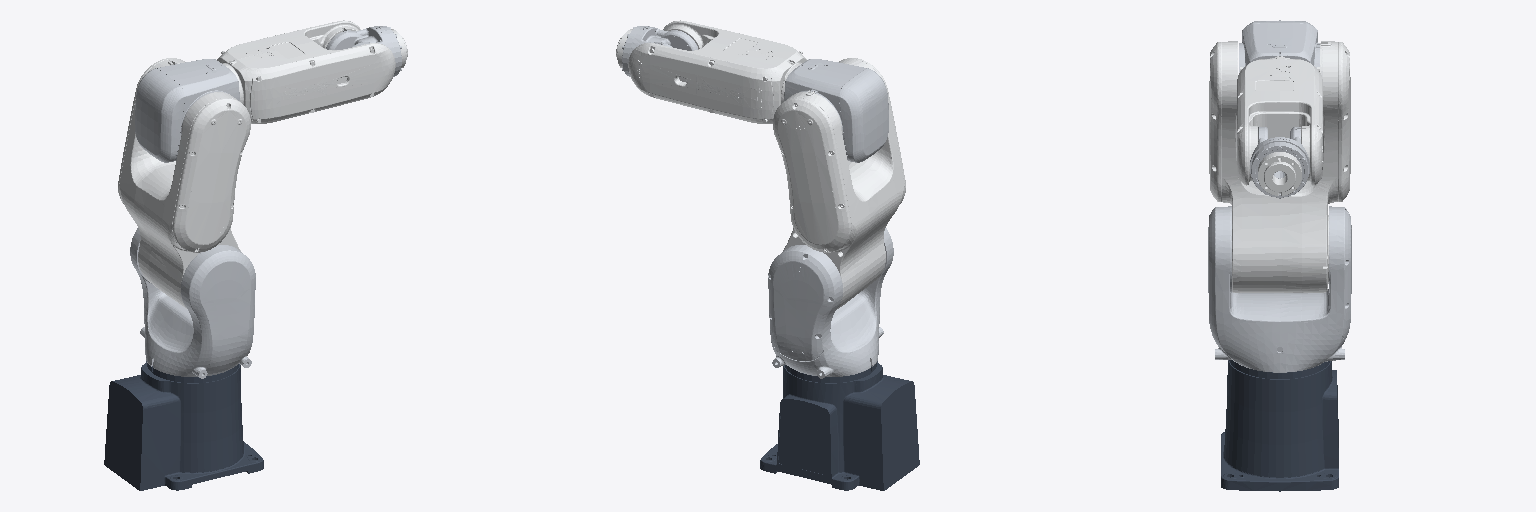
robot.urdf — IR-R4H-54S5-C1H-INT_01741031:
<?xml version="1.0"?>
<!-- Firmware source: params_package/Standard/Body/IR-R4H-54S5-C1H-INT_01741031/IR-R4H-54S5-C1H-INT_01741031.json; SHA256 b7608c351678f58ab75e27582ad9813d67b9332088d0996ac28763871a7e3e41. -->
<!-- Z-up; STL mm scaled to m. Effective firmware mass properties are SI and transformed into CAD link frames. -->
<!-- Revolute effort is nominal output torque; prismatic effort is ideal screw force. See physics-audit.json for approximations. -->
<robot name="IR-R4H-54S5-C1H-INT_01741031">
  <link name="base_link">

    <visual name="base">
      <origin xyz="0 0 0" rpy="0 0 0"/>
      <geometry>
        <mesh filename="../models/IR-R4H-54/P0.stl" scale="0.001 0.001 0.001"/>
      </geometry>
      <material name="base_material">
        <color rgba="0.31 0.35 0.41 1"/>
      </material>
    </visual>
    <collision name="base_collision">
      <origin xyz="0 0 0" rpy="0 0 0"/>
      <geometry>
        <mesh filename="../models/IR-R4H-54/P0.stl" scale="0.001 0.001 0.001"/>
      </geometry>
    </collision>
  </link>

  <link name="link_1">

    <!-- inertial source: bounding-box-fallback -->
    <!-- Effective firmware principal moments are not physically realizable; no unit guessing applied -->
    <inertial>
      <origin xyz="0.000013824463 0.000000072479 0.281902404785" rpy="0 0 0"/>
      <mass value="4.6511829668"/>
      <inertia ixx="0.033432511961" ixy="0" ixz="0" iyy="0.026197283566" iyz="0" izz="0.023527533623"/>
    </inertial>

    <visual name="link_1">
      <origin xyz="0 0 0" rpy="0 0 0"/>
      <geometry>
        <mesh filename="../models/IR-R4H-54/P1.stl" scale="0.001 0.001 0.001"/>
      </geometry>
      <material name="link_1_material">
        <color rgba="0.84 0.86 0.89 1"/>
      </material>
    </visual>
    <collision name="link_1_collision">
      <origin xyz="0 0 0" rpy="0 0 0"/>
      <geometry>
        <mesh filename="../models/IR-R4H-54/P1.stl" scale="0.001 0.001 0.001"/>
      </geometry>
    </collision>
  </link>

  <link name="link_2">

    <!-- inertial source: bounding-box-fallback -->
    <!-- Effective firmware principal moments are not physically realizable; no unit guessing applied -->
    <inertial>
      <origin xyz="-0.012871671677 -0.00000005722 0.127768753052" rpy="0 0 0"/>
      <mass value="5.8442506454"/>
      <inertia ixx="0.088290574955" ixy="0" ixz="0" iyy="0.079984067329" iyz="0" izz="0.029572097553"/>
    </inertial>

    <visual name="link_2">
      <origin xyz="0 0 -0.33" rpy="0 0 0"/>
      <geometry>
        <mesh filename="../models/IR-R4H-54/P2.stl" scale="0.001 0.001 0.001"/>
      </geometry>
      <material name="link_2_material">
        <color rgba="0.94 0.95 0.96 1"/>
      </material>
    </visual>
    <collision name="link_2_collision">
      <origin xyz="0 0 -0.33" rpy="0 0 0"/>
      <geometry>
        <mesh filename="../models/IR-R4H-54/P2.stl" scale="0.001 0.001 0.001"/>
      </geometry>
    </collision>
  </link>

  <link name="link_3">

    <!-- inertial source: firmware-effective-si -->
    <inertial>
      <origin xyz="-0.0029101889 -0.0019966877 -0.0011573396" rpy="0 0 0"/>
      <mass value="2.8319447962"/>
      <inertia ixx="0.0074433738" ixy="0" ixz="0" iyy="0.0068158704" iyz="0" izz="0.0088166332"/>
    </inertial>

    <visual name="link_3">
      <origin xyz="0 0 -0.59" rpy="0 0 0"/>
      <geometry>
        <mesh filename="../models/IR-R4H-54/P3.stl" scale="0.001 0.001 0.001"/>
      </geometry>
      <material name="link_3_material">
        <color rgba="0.84 0.86 0.89 1"/>
      </material>
    </visual>
    <collision name="link_3_collision">
      <origin xyz="0 0 -0.59" rpy="0 0 0"/>
      <geometry>
        <mesh filename="../models/IR-R4H-54/P3.stl" scale="0.001 0.001 0.001"/>
      </geometry>
    </collision>
  </link>

  <link name="link_4">

    <!-- inertial source: firmware-effective-si -->
    <inertial>
      <origin xyz="0.210755068 -0.0015454637 -0.001145" rpy="0 0 0"/>
      <mass value="3.0134778527"/>
      <inertia ixx="0.0050897251" ixy="0" ixz="0" iyy="0.0201337033" iyz="0" izz="0.0177743394"/>
    </inertial>

    <visual name="link_4">
      <origin xyz="0 0 -0.61" rpy="0 0 0"/>
      <geometry>
        <mesh filename="../models/IR-R4H-54/P4.stl" scale="0.001 0.001 0.001"/>
      </geometry>
      <material name="link_4_material">
        <color rgba="0.94 0.95 0.96 1"/>
      </material>
    </visual>
    <collision name="link_4_collision">
      <origin xyz="0 0 -0.61" rpy="0 0 0"/>
      <geometry>
        <mesh filename="../models/IR-R4H-54/P4.stl" scale="0.001 0.001 0.001"/>
      </geometry>
    </collision>
  </link>

  <link name="link_5">

    <!-- inertial source: bounding-box-fallback -->
    <!-- Effective firmware principal moments are not physically realizable; no unit guessing applied -->
    <inertial>
      <origin xyz="0.012617797852 0.000000001907 -0.001" rpy="0 0 0"/>
      <mass value="1.0055499561"/>
      <inertia ixx="0.001211017384" ixy="0" ixz="0" iyy="0.001470566841" iyz="0" izz="0.001442076313"/>
    </inertial>

    <visual name="link_5">
      <origin xyz="-0.285 0 -0.61" rpy="0 0 0"/>
      <geometry>
        <mesh filename="../models/IR-R4H-54/P5.stl" scale="0.001 0.001 0.001"/>
      </geometry>
      <material name="link_5_material">
        <color rgba="0.84 0.86 0.89 1"/>
      </material>
    </visual>
    <collision name="link_5_collision">
      <origin xyz="-0.285 0 -0.61" rpy="0 0 0"/>
      <geometry>
        <mesh filename="../models/IR-R4H-54/P5.stl" scale="0.001 0.001 0.001"/>
      </geometry>
    </collision>
  </link>

  <link name="link_6">

    <!-- inertial source: bounding-box-fallback -->
    <!-- Effective firmware principal moments are not physically realizable; no unit guessing applied -->
    <inertial>
      <origin xyz="-0.004500167847 0.000000000954 0" rpy="0 0 0"/>
      <mass value="0.3340476631"/>
      <inertia ixx="0.000213927755" ixy="0" ixz="0" iyy="0.000119282889" iyz="0" izz="0.000119197441"/>
    </inertial>

    <visual name="link_6">
      <origin xyz="-0.36 0 -0.61" rpy="0 0 0"/>
      <geometry>
        <mesh filename="../models/IR-R4H-54/P6.stl" scale="0.001 0.001 0.001"/>
      </geometry>
      <material name="link_6_material">
        <color rgba="0.94 0.95 0.96 1"/>
      </material>
    </visual>
    <collision name="link_6_collision">
      <origin xyz="-0.36 0 -0.61" rpy="0 0 0"/>
      <geometry>
        <mesh filename="../models/IR-R4H-54/P6.stl" scale="0.001 0.001 0.001"/>
      </geometry>
    </collision>
  </link>

  <joint name="J1" type="revolute">
    <parent link="base_link"/>
    <child link="link_1"/>
    <origin xyz="0 0 0" rpy="0 0 0"/>
    <axis xyz="0 0 1"/>
    <limit lower="-2.96705972839" upper="2.96705972839" effort="110.4265" velocity="7.330382858376"/>
  </joint>

  <joint name="J2" type="revolute">
    <parent link="link_1"/>
    <child link="link_2"/>
    <origin xyz="0 0 0.33" rpy="0 0 0"/>
    <axis xyz="0 -1 0"/>
    <limit lower="-2.094395102393" upper="1.919862177194" effort="102.87" velocity="7.330382858376"/>
  </joint>

  <joint name="J3" type="revolute">
    <parent link="link_2"/>
    <child link="link_3"/>
    <origin xyz="0 0 0.26" rpy="0 0 0"/>
    <axis xyz="0 -1 0"/>
    <limit lower="-1.134464013796" upper="3.403392041389" effort="52.6752" velocity="9.075712110371"/>
  </joint>

  <joint name="J4" type="revolute">
    <parent link="link_3"/>
    <child link="link_4"/>
    <origin xyz="0 0 0.02" rpy="0 0 0"/>
    <axis xyz="1 0 0"/>
    <limit lower="-3.316125578789" upper="3.316125578789" effort="21.3312" velocity="9.773843811168"/>
  </joint>

  <joint name="J5" type="revolute">
    <parent link="link_4"/>
    <child link="link_5"/>
    <origin xyz="0.285 0 0" rpy="0 0 0"/>
    <axis xyz="0 -1 0"/>
    <limit lower="-2.094395102393" upper="2.094395102393" effort="10.6672" velocity="9.773843811168"/>
  </joint>

  <joint name="J6" type="revolute">
    <parent link="link_5"/>
    <child link="link_6"/>
    <origin xyz="0.075 0 0" rpy="0 0 0"/>
    <axis xyz="1 0 0"/>
    <limit lower="-6.28318530718" upper="6.28318530718" effort="12.6944" velocity="14.988887616127"/>
  </joint>

  <link name="tool0"/>
  <joint name="tool0_fixed" type="fixed">
    <parent link="link_6"/>
    <child link="tool0"/>
    <origin xyz="0 0 0" rpy="3.14159265359 -1.570796326795 0"/>
  </joint>
</robot>

--- What the picture shows (computed from the rendered views, not written in the file) ---
The picture shows the robot from 3 angles, left to right: view 1: azimuth 30°, elevation 25°; view 2: azimuth 150°, elevation 25°; view 3: azimuth 270°, elevation 25°; orthographic projection.
Model IR-R4H-54S5-C1H-INT_01741031 with 8 links and 7 joints (6 revolute, 1 fixed), rooted at base_link, posed every joint at zero.
Visible links, largest first — view 1: link_2, base_link, link_1, link_4, link_3, link_5; view 2: link_2, base_link, link_1, link_4, link_3, link_5; view 3: link_2, link_1, base_link, link_4, link_3, link_5, link_6.
Link boxes in pixels (x1=…): link_2: x1=118, y1=58, x2=250, y2=308; base_link: x1=104, y1=361, x2=263, y2=490; link_1: x1=130, y1=228, x2=255, y2=378; link_4: x1=217, y1=20, x2=395, y2=123; link_3: x1=135, y1=59, x2=239, y2=162; link_5: x1=326, y1=26, x2=401, y2=76; link_2: x1=773, y1=58, x2=905, y2=309; base_link: x1=760, y1=361, x2=919, y2=490; link_1: x1=768, y1=228, x2=893, y2=378; link_4: x1=628, y1=20, x2=806, y2=123; link_3: x1=784, y1=59, x2=888, y2=162; link_5: x1=622, y1=26, x2=697, y2=76; link_2: x1=1209, y1=41, x2=1350, y2=292; link_1: x1=1208, y1=206, x2=1351, y2=372; base_link: x1=1221, y1=360, x2=1338, y2=491; link_4: x1=1237, y1=56, x2=1322, y2=185; link_3: x1=1239, y1=20, x2=1319, y2=72; link_5: x1=1250, y1=127, x2=1309, y2=198; link_6: x1=1258, y1=152, x2=1301, y2=195.
Bounding box of the posed robot: 0.491 × 0.1992 × 0.658 m (x, y, z).
Meshes: 7 distinct files referenced, 7 mesh visuals loaded (7 binary STL).
